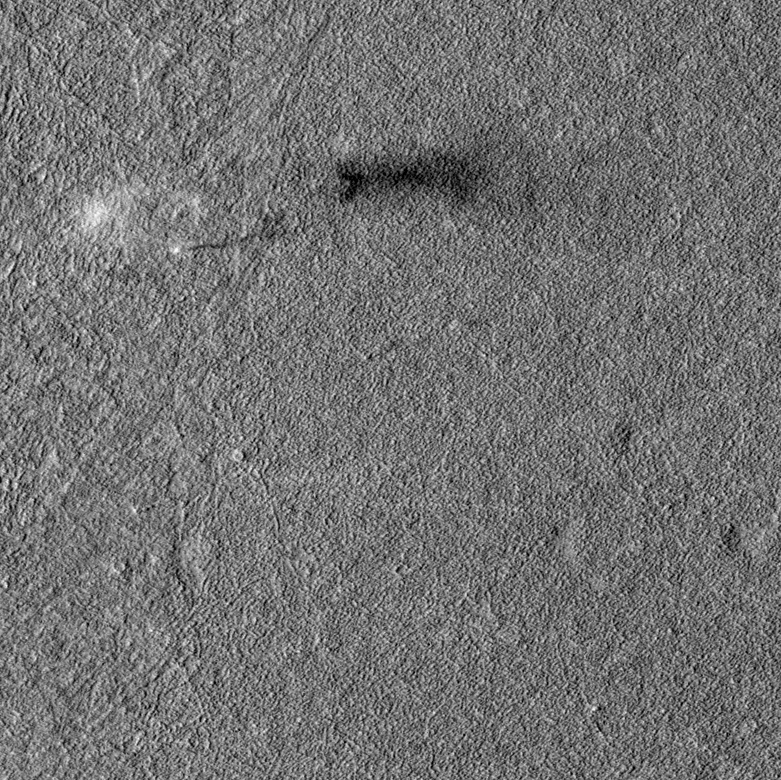dust_devil: (77, 141, 482, 241), (167, 233, 248, 255)
